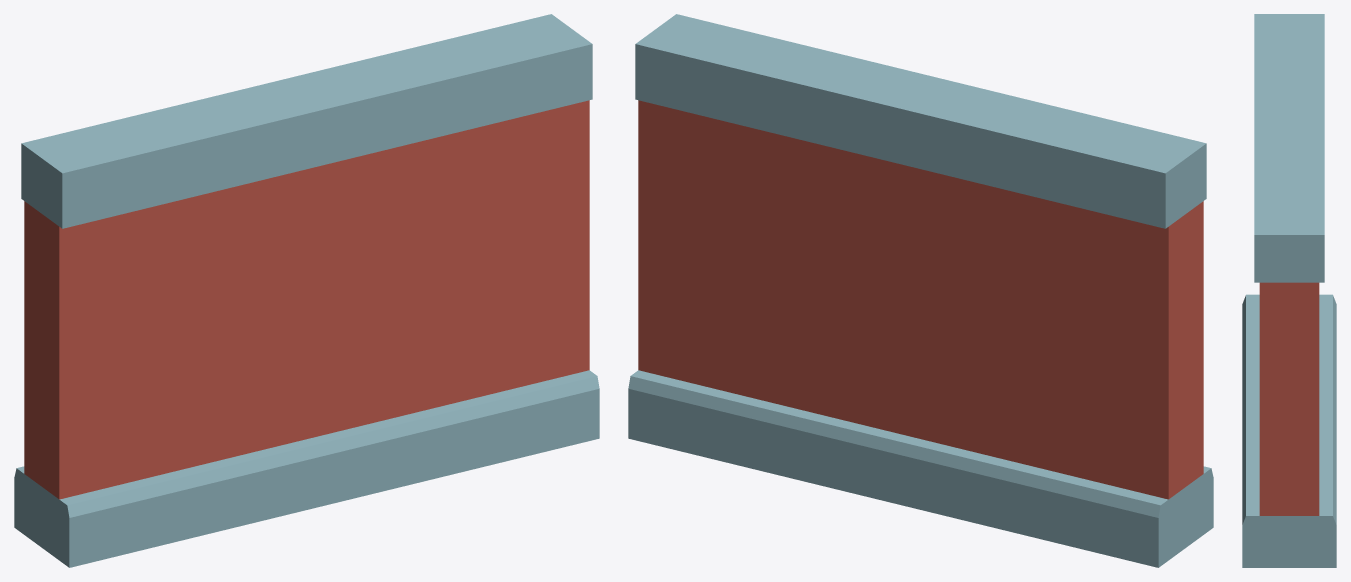
Rendered from brickWall.fbx.
The picture shows the model from 3 angles, left to right: view 1: azimuth 30°, elevation 25°; view 2: azimuth 150°, elevation 25°; view 3: azimuth 270°, elevation 25°; orthographic projection. The views are drawn at different scales.
Visible parts, largest first — view 1: brickWall; view 2: brickWall; view 3: brickWall.
Boxes of the visible parts, box(x1,y1,x2,y2) form: brickWall: box(14, 14, 599, 567); brickWall: box(628, 14, 1213, 567); brickWall: box(1242, 14, 1336, 567).
Size of the model in its own units: 10 by 7.02 by 1.8.
